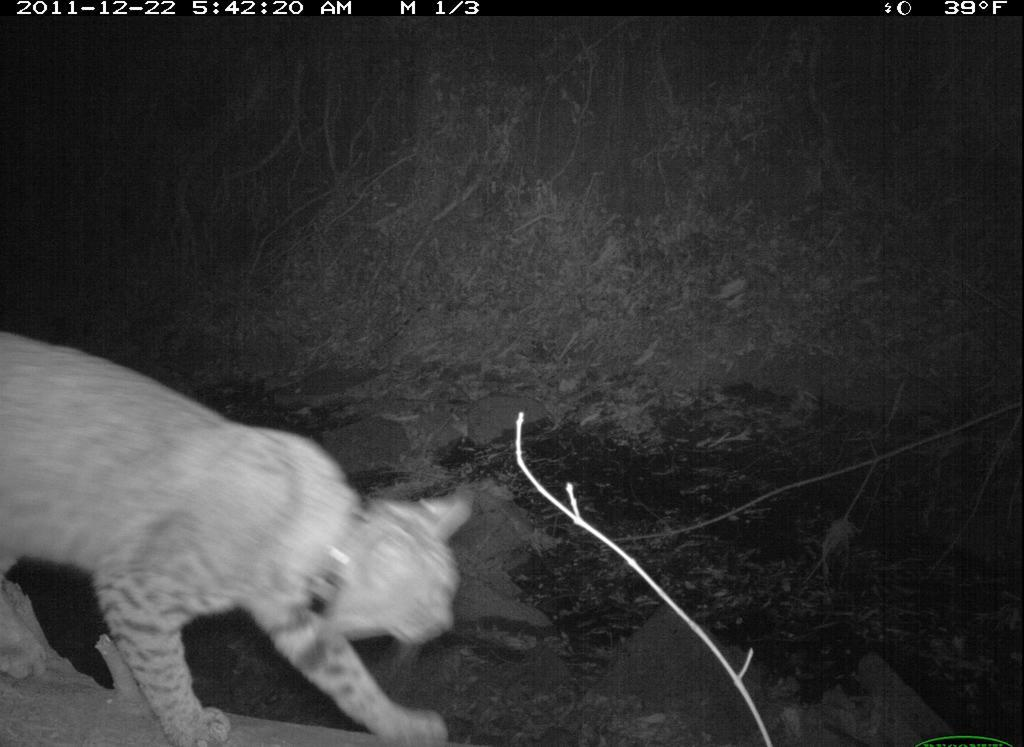bobcat: (4, 308, 492, 747)
